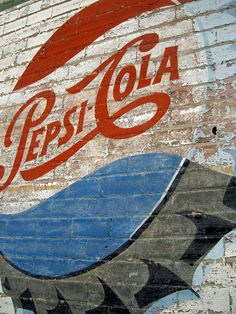pepsi: (0, 0, 210, 270), (1, 0, 210, 270), (1, 0, 198, 270)
